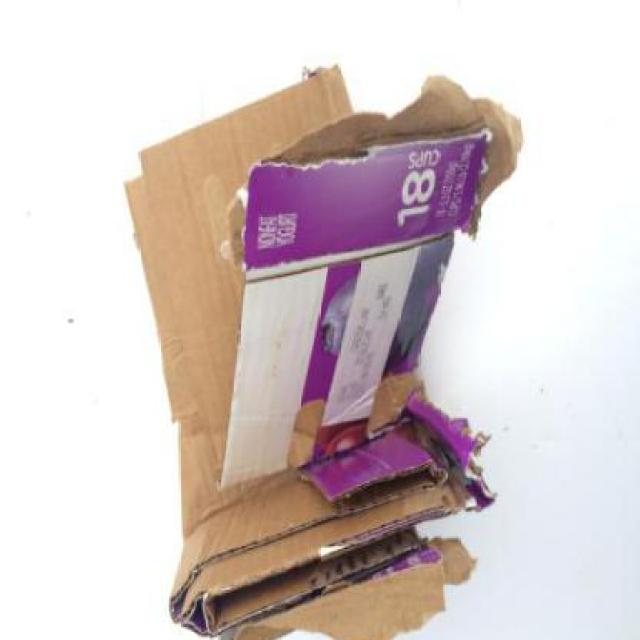box: (108, 50, 522, 640)
